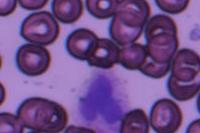N: (75, 70, 131, 132)
